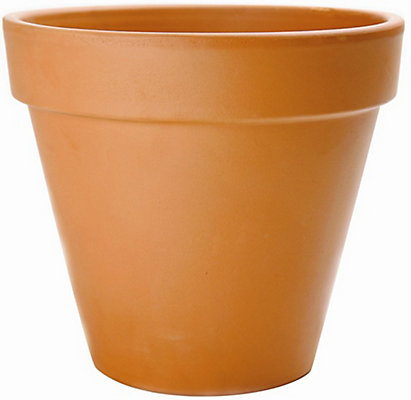tire: (1, 6, 404, 397)
